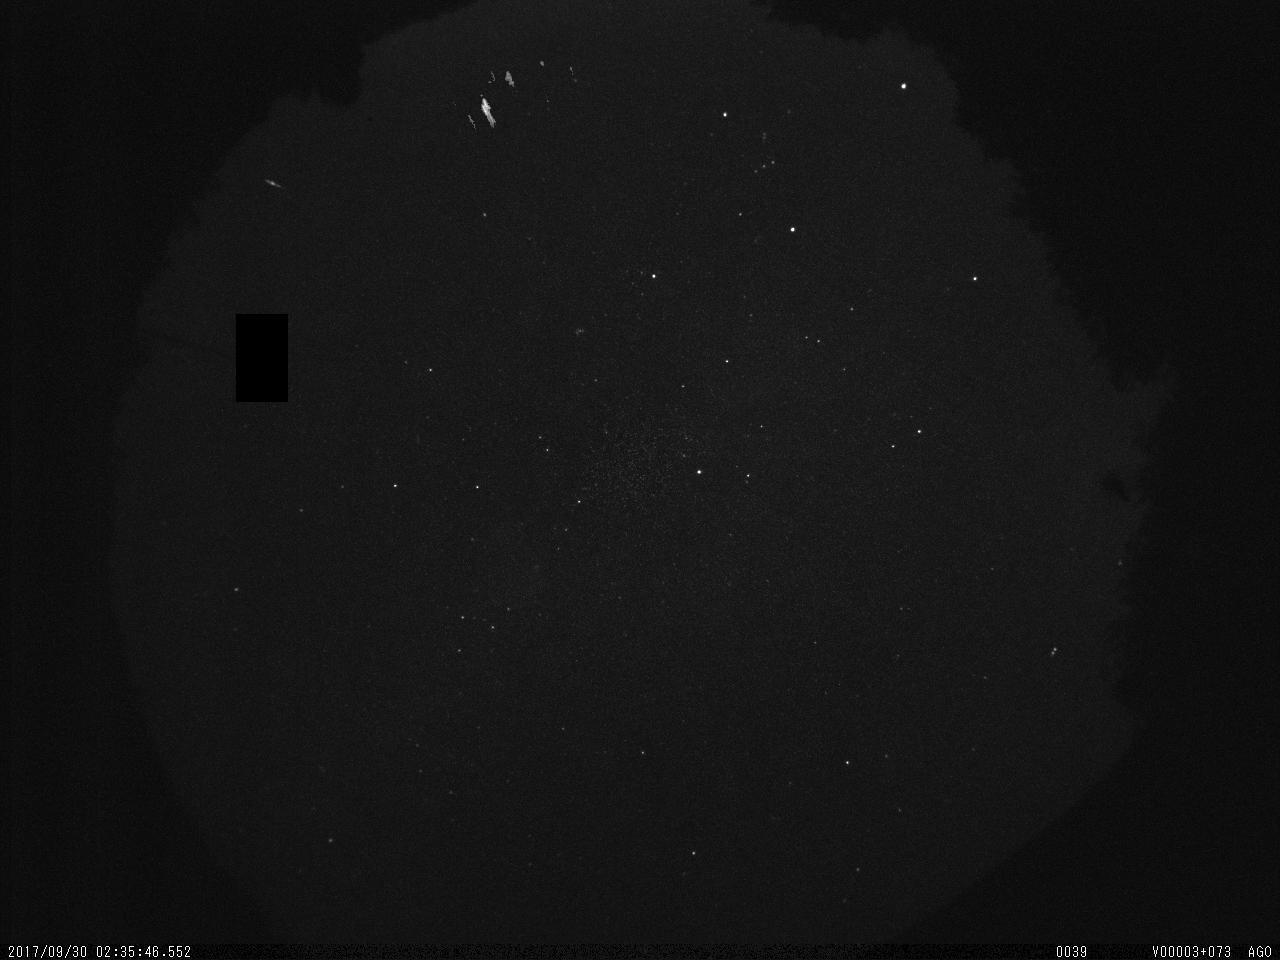TLE: (422, 32, 624, 175)
